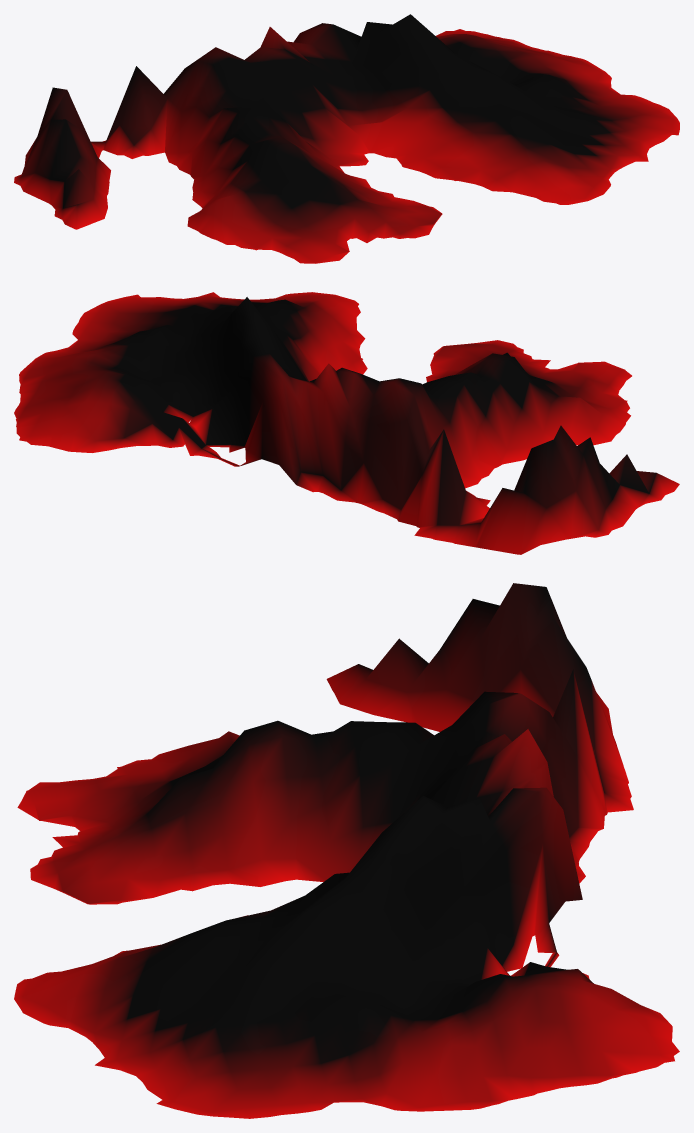
Rendered from DebrisPileV1.fbx.
The picture shows the model from 3 angles, top to bottom: view 1: azimuth 30°, elevation 25°; view 2: azimuth 150°, elevation 25°; view 3: azimuth 270°, elevation 25°; orthographic projection. The views are drawn at different scales.
Parts seen in each view (by area): view 1: DebrisPileV1; view 2: DebrisPileV1; view 3: DebrisPileV1.
Part boxes in pixels (x1,y1,x2,y2): DebrisPileV1: (14, 14, 679, 263); DebrisPileV1: (14, 292, 679, 554); DebrisPileV1: (14, 583, 679, 1118).
Bounding box in the file's own units: 461 × 89.5 × 294.
